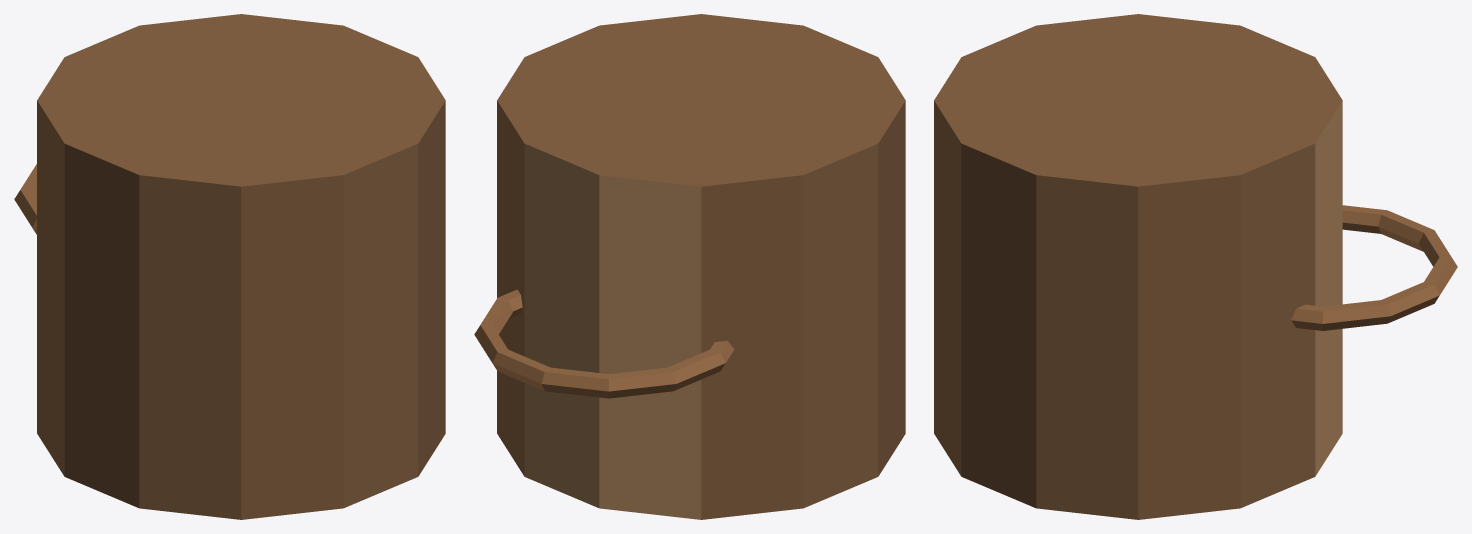
File: stump.glb
3 renders of one model, left to right at view 1: azimuth 30°, elevation 25°; view 2: azimuth 150°, elevation 25°; view 3: azimuth 270°, elevation 25°, orthographic.
Parts seen in each view (by area): view 1: Stump; view 2: Stump; view 3: Stump.
Boxes of the visible parts, bbox=[...] form: Stump: bbox=[14, 14, 445, 519]; Stump: bbox=[474, 14, 905, 519]; Stump: bbox=[934, 14, 1457, 519].
Size of the model in its own units: 0.5 by 0.45 by 0.641.
